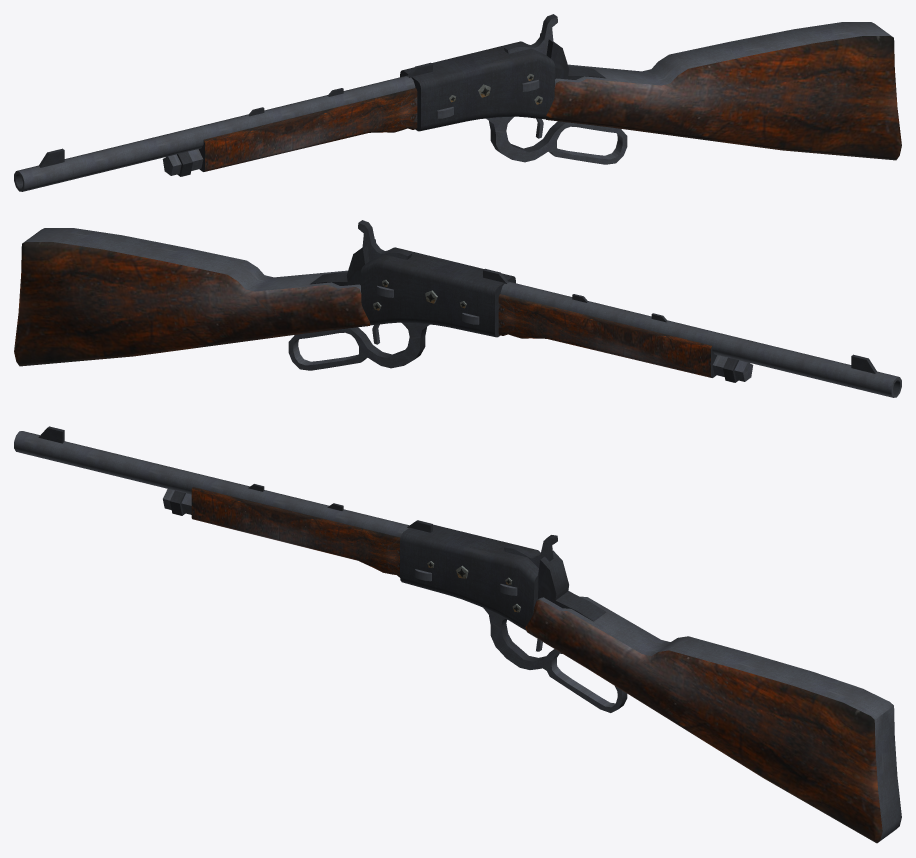
File: gun-05.fbx
The picture shows the model from 3 angles, top to bottom: view 1: azimuth 30°, elevation 25°; view 2: azimuth 150°, elevation 25°; view 3: azimuth 330°, elevation 25°; orthographic projection.
Parts seen in each view (by area): view 1: Cylinder.087; view 2: Cylinder.087; view 3: Cylinder.087.
Part boxes in pixels (bbox=[...]): Cylinder.087: bbox=[14, 14, 901, 191]; Cylinder.087: bbox=[14, 220, 901, 397]; Cylinder.087: bbox=[14, 426, 901, 843].
Bounding box in the file's own units: 1.46 × 0.3489 × 0.0717.
